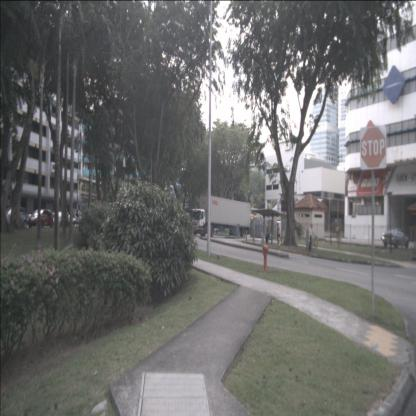human-pedestrian-adult: (308, 224, 314, 252), (276, 223, 280, 244), (266, 228, 271, 244)
vehicle-bicycle: (313, 232, 318, 250)
vehicle-car: (381, 227, 409, 249), (1, 206, 28, 228), (28, 208, 53, 228), (52, 210, 76, 228)
vehicle-truck: (190, 208, 214, 238), (68, 210, 84, 224)
